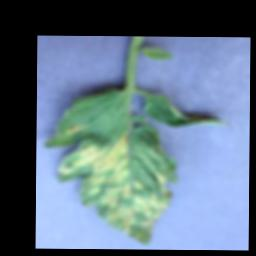Leaf_Mold: (56, 129, 173, 245), (64, 122, 85, 135)
